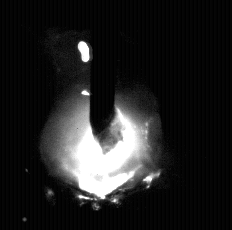arame: (90, 0, 116, 135)
poca: (38, 0, 162, 230)
